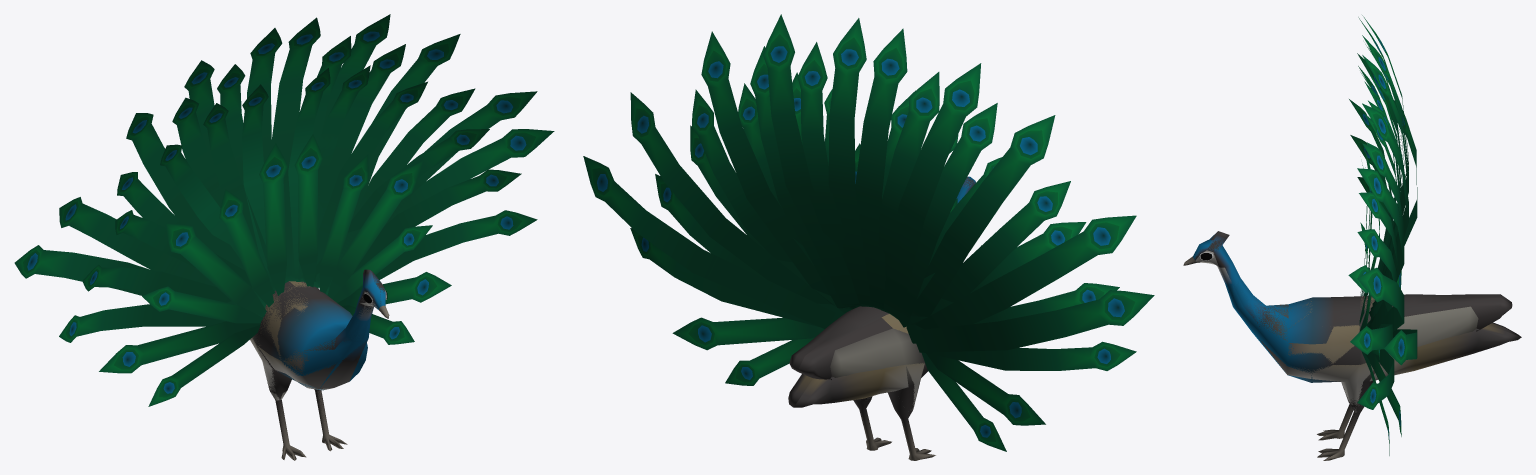
The model's file is Peacock.fbx.
3 renders of one model, left to right at view 1: azimuth 30°, elevation 25°; view 2: azimuth 150°, elevation 25°; view 3: azimuth 270°, elevation 25°, orthographic. The views are drawn at different scales.
Parts seen in each view (by area): view 1: DblSided, base.089, base.090; view 2: DblSided, base.089, base.090; view 3: DblSided, base.089, base.090.
Boxes of the visible parts, x1,y1,x2,y2 form: DblSided: [14, 14, 554, 406]; base.089: [252, 269, 389, 460]; base.090: [250, 271, 386, 456]; DblSided: [583, 14, 1154, 451]; base.089: [789, 176, 975, 460]; base.090: [788, 177, 975, 450]; DblSided: [1348, 15, 1417, 455]; base.089: [1183, 231, 1512, 460]; base.090: [1184, 231, 1521, 438].
Size of the model in its own units: 2.39 by 1.75 by 1.34.
